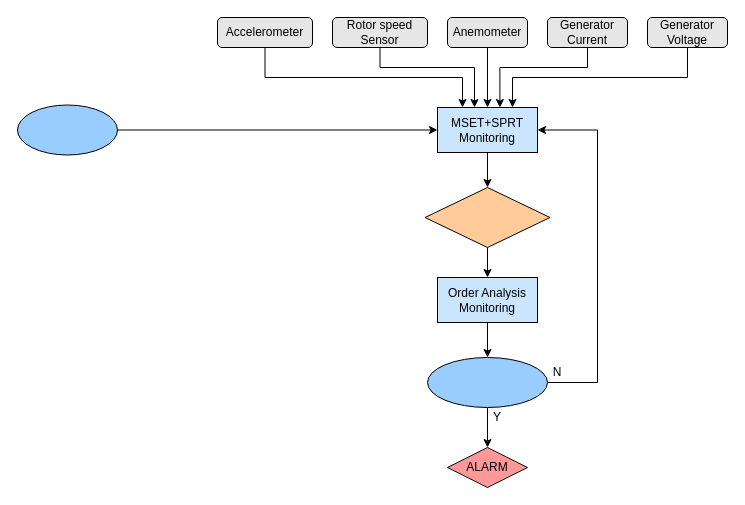
Some shapes in this 745 by 505 pixel diagram are drawn without their labels. Each missing label, with the centre of its shape:
"1P Component Beyond Threshold?" goes at pixel 487 382.
"Start Datacollection" goes at pixel 67 129.
"Vibration Fault Detected" goes at pixel 487 217.
